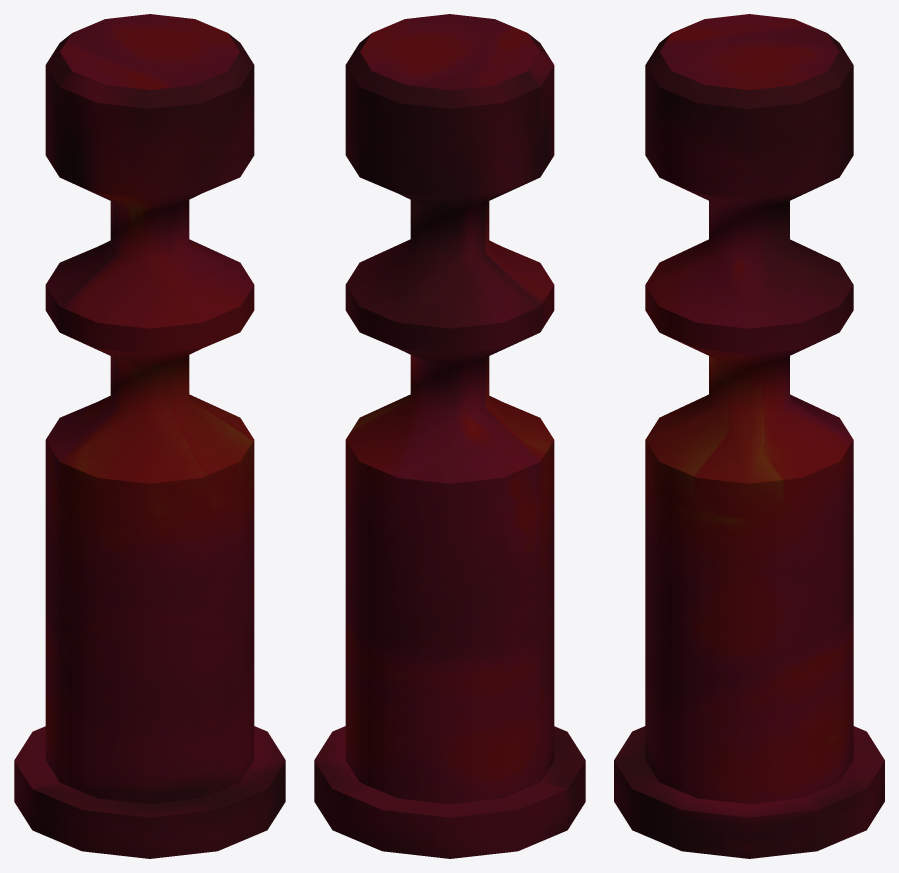
Rendered from PegMetalT5.fbx.
3 renders of one model, left to right at view 1: azimuth 30°, elevation 25°; view 2: azimuth 150°, elevation 25°; view 3: azimuth 270°, elevation 25°, orthographic.
Parts seen in each view (by area): view 1: PegMetalT5; view 2: PegMetalT5; view 3: PegMetalT5.
Part boxes in pixels (x1,y1,x2,y2): PegMetalT5: (14,14,285,858); PegMetalT5: (314,14,585,858); PegMetalT5: (614,14,884,858).
Size of the model in its own units: 0.9769 by 2.97 by 0.9742.
Materials: 1 (1 with a texture image).
